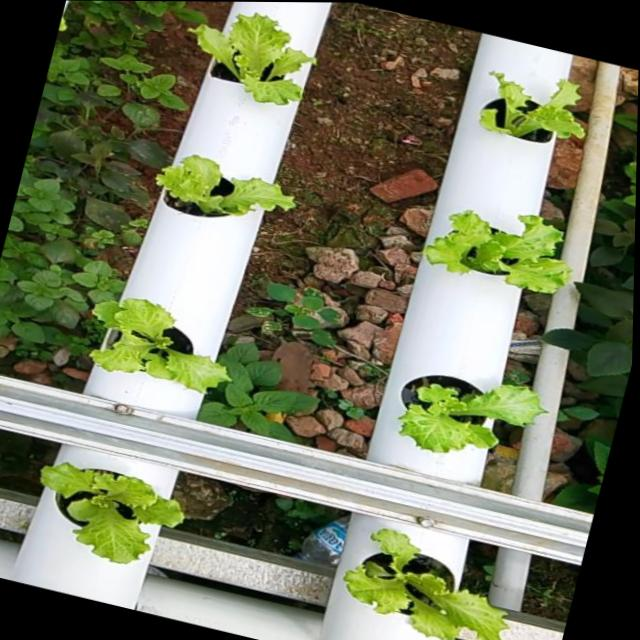Baby: (345, 530, 511, 640), (38, 449, 182, 568), (88, 301, 232, 398), (417, 216, 564, 300), (391, 380, 540, 459), (185, 21, 312, 112), (151, 161, 290, 223), (473, 81, 578, 150)
